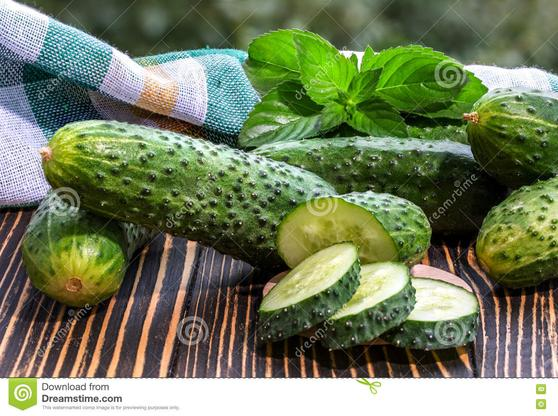cucumber: (44, 117, 336, 272)
